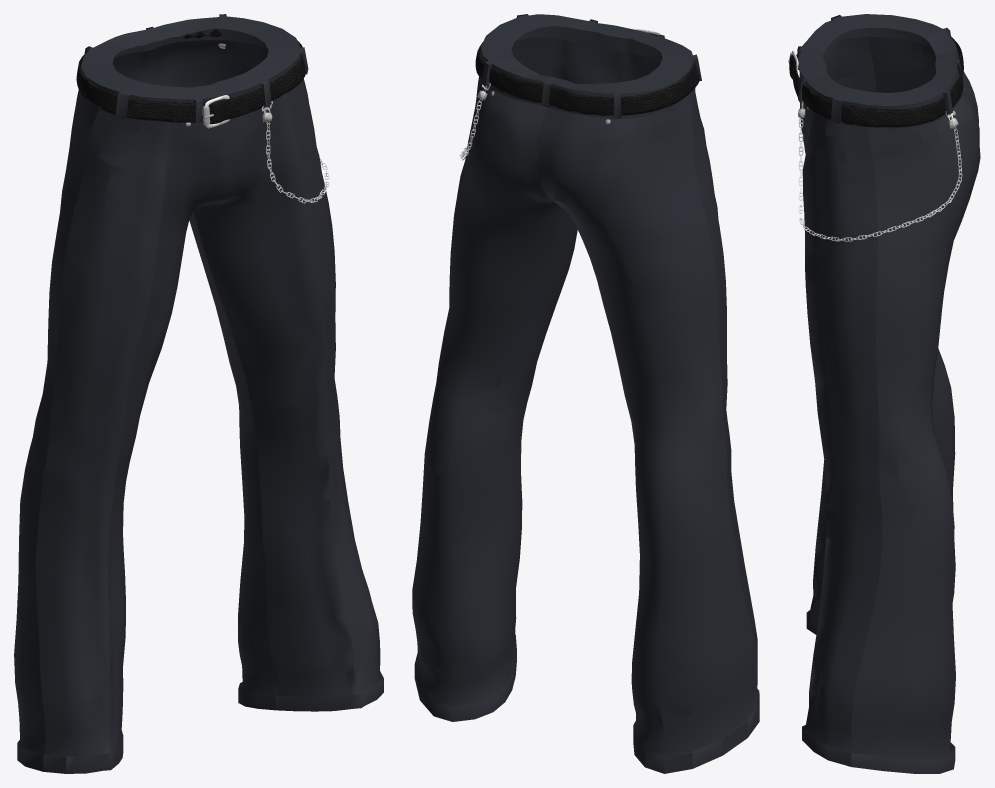
Rendered from elvs-male-trouser-with-chain.glb.
3 renders of one model, left to right at view 1: azimuth 30°, elevation 25°; view 2: azimuth 150°, elevation 25°; view 3: azimuth 270°, elevation 25°, orthographic. The views are drawn at different scales.
Visible parts, largest first — view 1: male trouser with chain; view 2: male trouser with chain; view 3: male trouser with chain.
Boxes of the visible parts, box(x1,y1,x2,y2) form: male trouser with chain: box(14, 14, 383, 773); male trouser with chain: box(412, 14, 759, 773); male trouser with chain: box(788, 14, 980, 773).
Bounding box in the file's own units: 53.47 × 104 × 27.55.
Materials: 1 (1 with a texture image).
